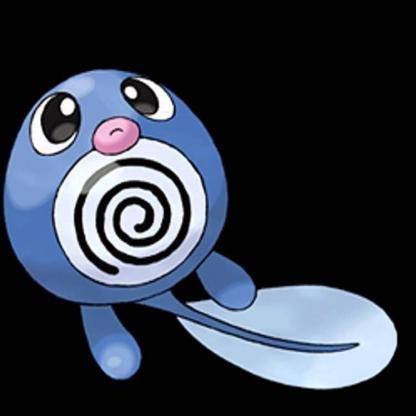Poliwag: (1, 61, 416, 412)
